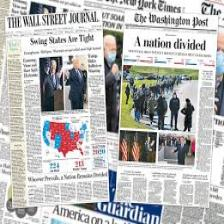paper: (0, 0, 224, 224), (6, 11, 110, 202), (122, 11, 212, 217)
